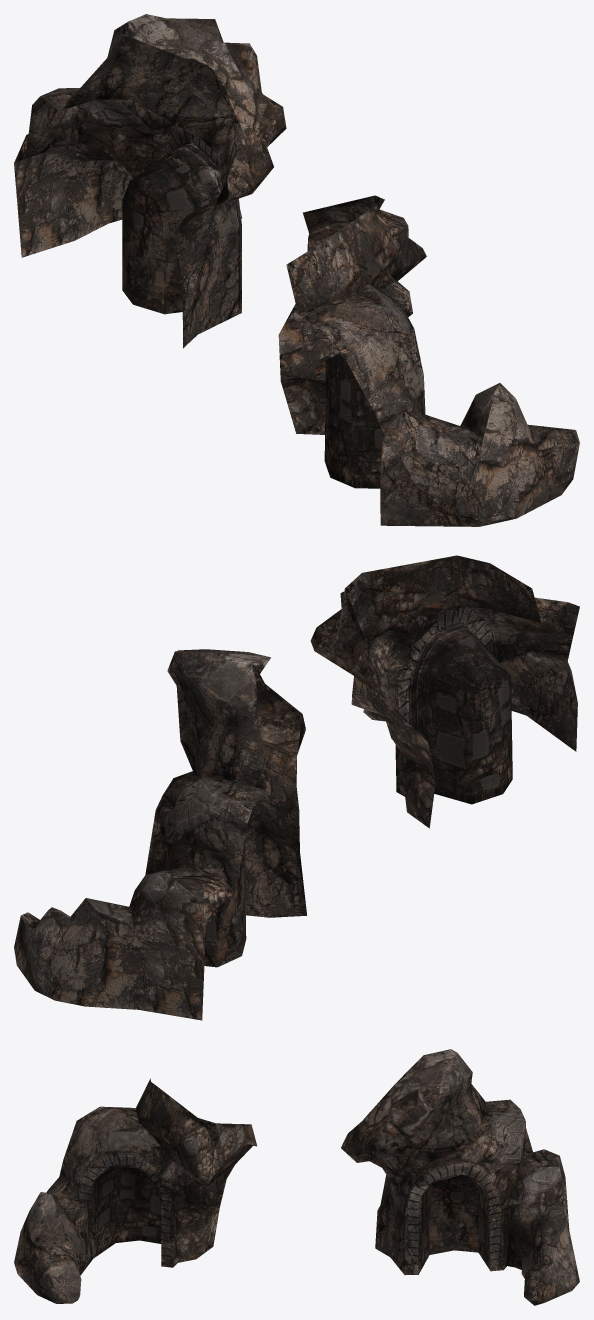
File: SM_Forge_Facesides.FBX
The picture shows the model from 3 angles, top to bottom: view 1: azimuth 30°, elevation 25°; view 2: azimuth 150°, elevation 25°; view 3: azimuth 270°, elevation 25°; orthographic projection. The views are drawn at different scales.
Visible parts, largest first — view 1: SM_Forge_Facesides; view 2: SM_Forge_Facesides; view 3: SM_Forge_Facesides.
Boxes of the visible parts, bbox=[...] form: SM_Forge_Facesides: bbox=[14, 14, 579, 526]; SM_Forge_Facesides: bbox=[14, 555, 579, 1020]; SM_Forge_Facesides: bbox=[14, 1049, 579, 1305].
Size of the model in its own units: 341 by 1051 by 411.
